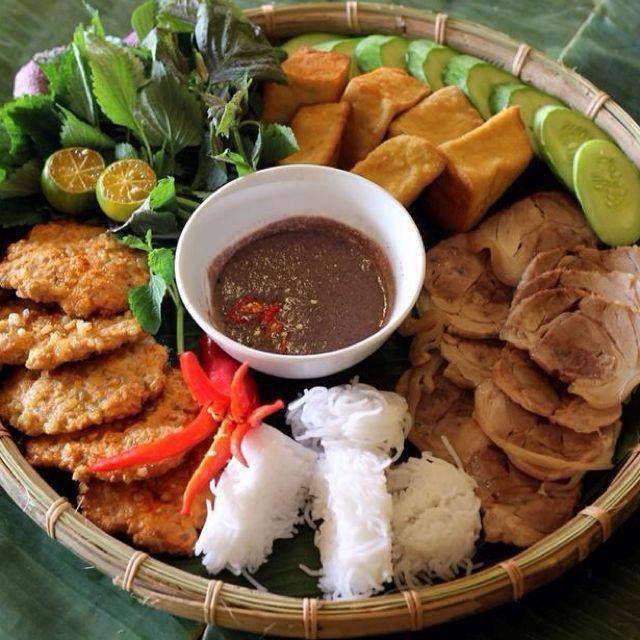bun: (277, 365, 424, 602), (176, 419, 326, 578), (376, 443, 485, 593)
bun dau: (11, 29, 619, 624)
cha com: (18, 362, 220, 484), (1, 329, 175, 450), (63, 435, 229, 560), (1, 217, 162, 329), (1, 298, 159, 369)
dau hu: (339, 63, 452, 216), (435, 95, 538, 234), (257, 45, 358, 175), (371, 78, 486, 175)
thit heo: (389, 192, 640, 559)
